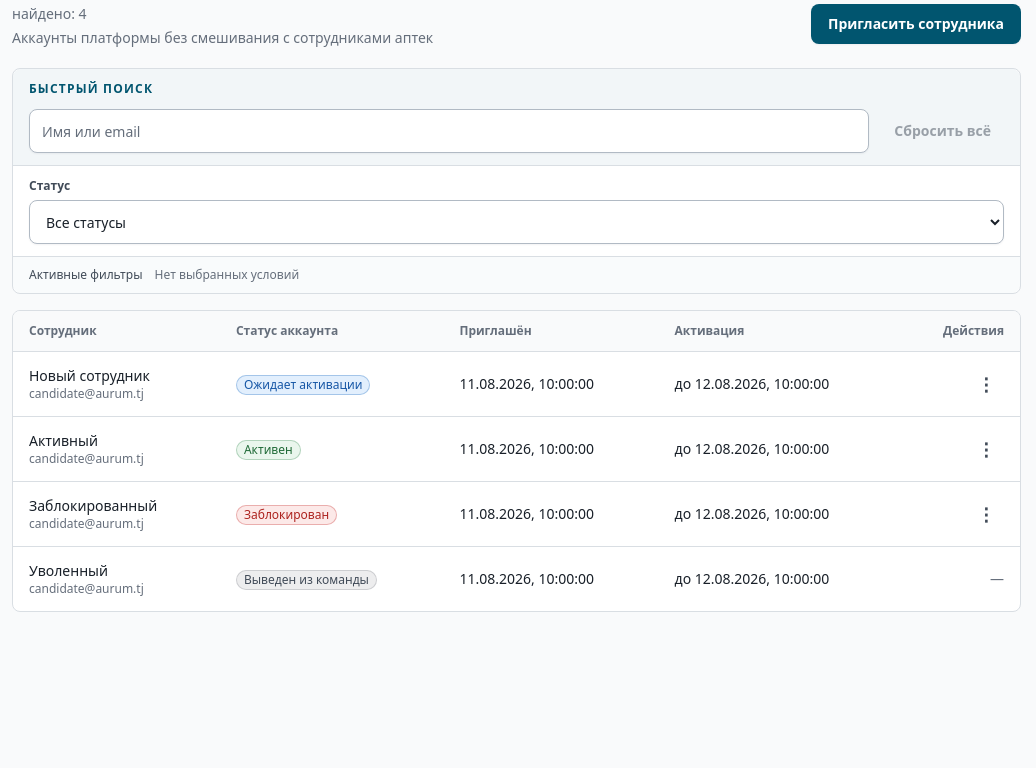
Test: PlatformAccountsPage › shows only lifecycle actions allowed by each account status
Expected: the text "Активный" is shown, [29, 431, 98, 450]
Click the button named "Действия с аккаунтом Новый сотрудник" at (986, 384), box [968, 366, 1004, 402]
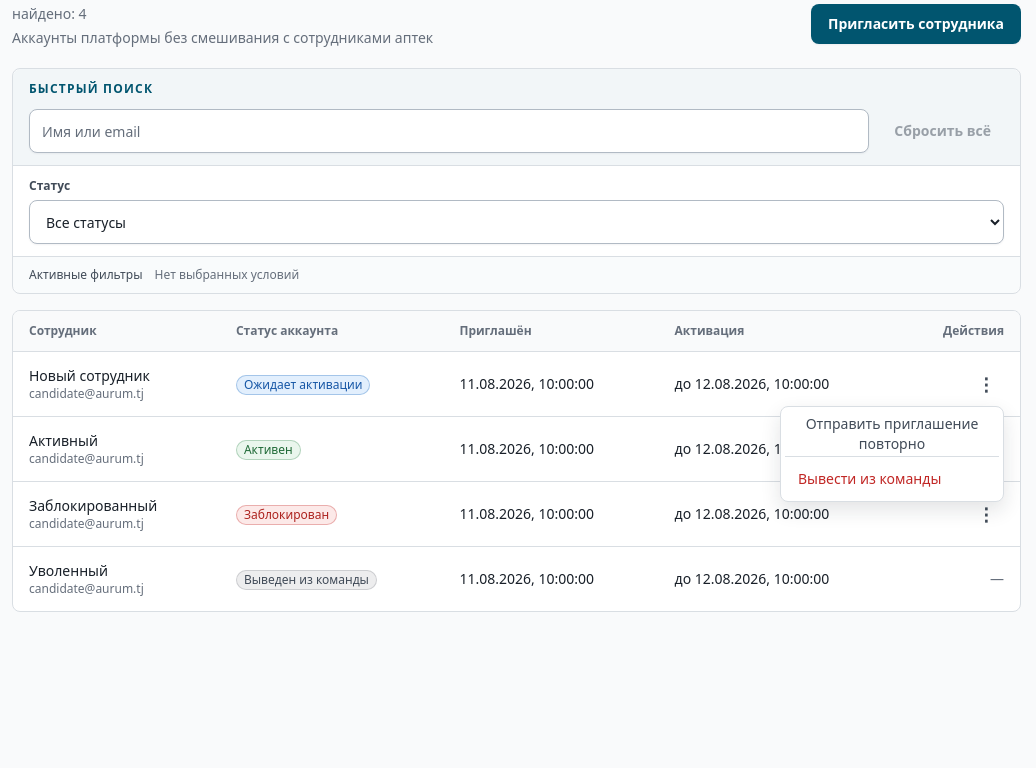
Expected: the menu item "Заблокировать" is not shown
Result: the menu item "Отправить приглашение повторно" is shown at [785, 416, 999, 452]
Result: the menu item "Вывести из команды" is shown at [785, 461, 999, 497]
Press Escape
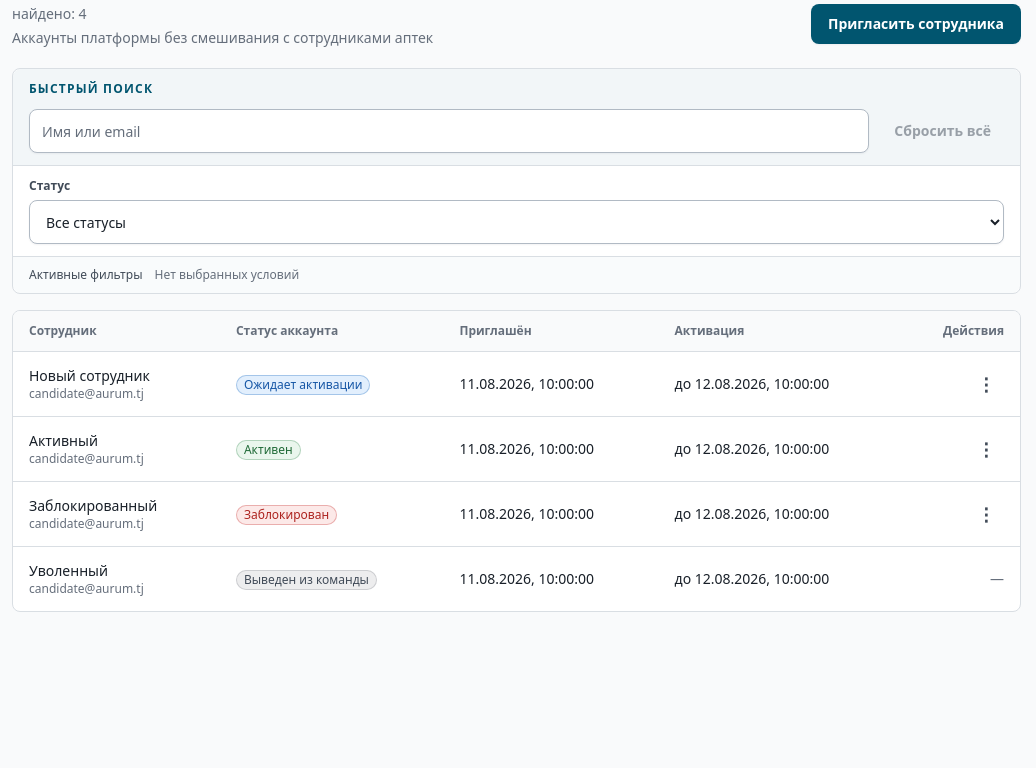
Click the button named "Действия с аккаунтом Активный" at (986, 449), box [968, 431, 1004, 467]
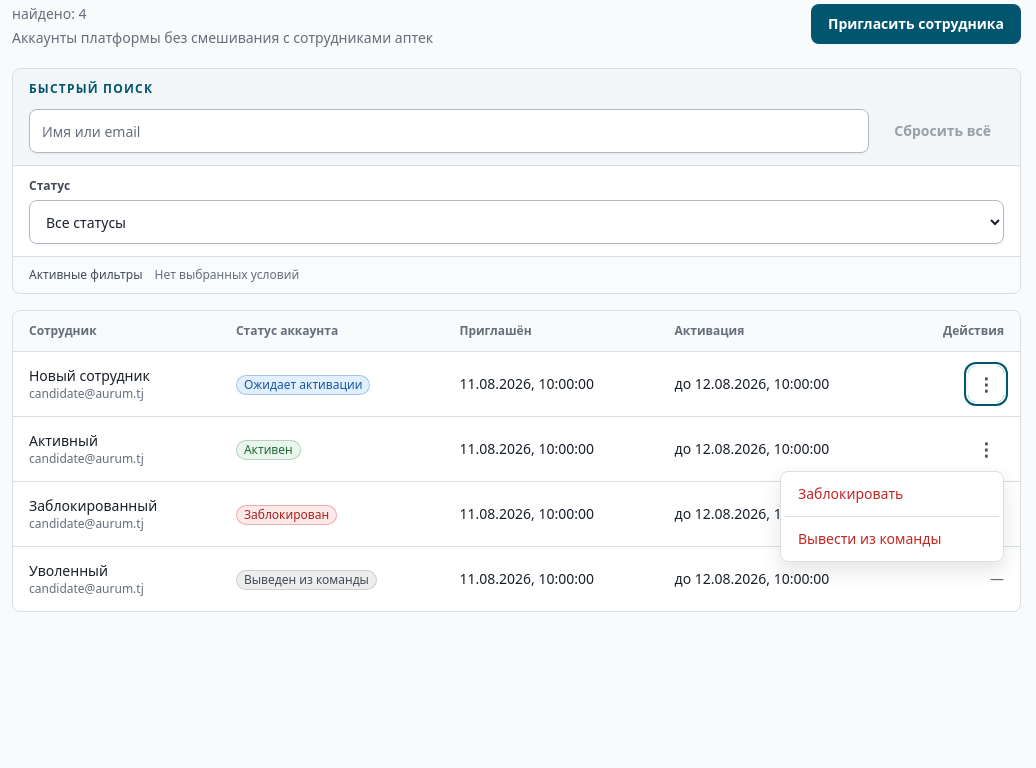
Expected: the menu item "Разблокировать" is not shown
Result: the menu item "Заблокировать" is shown at [785, 476, 999, 512]
Press Escape
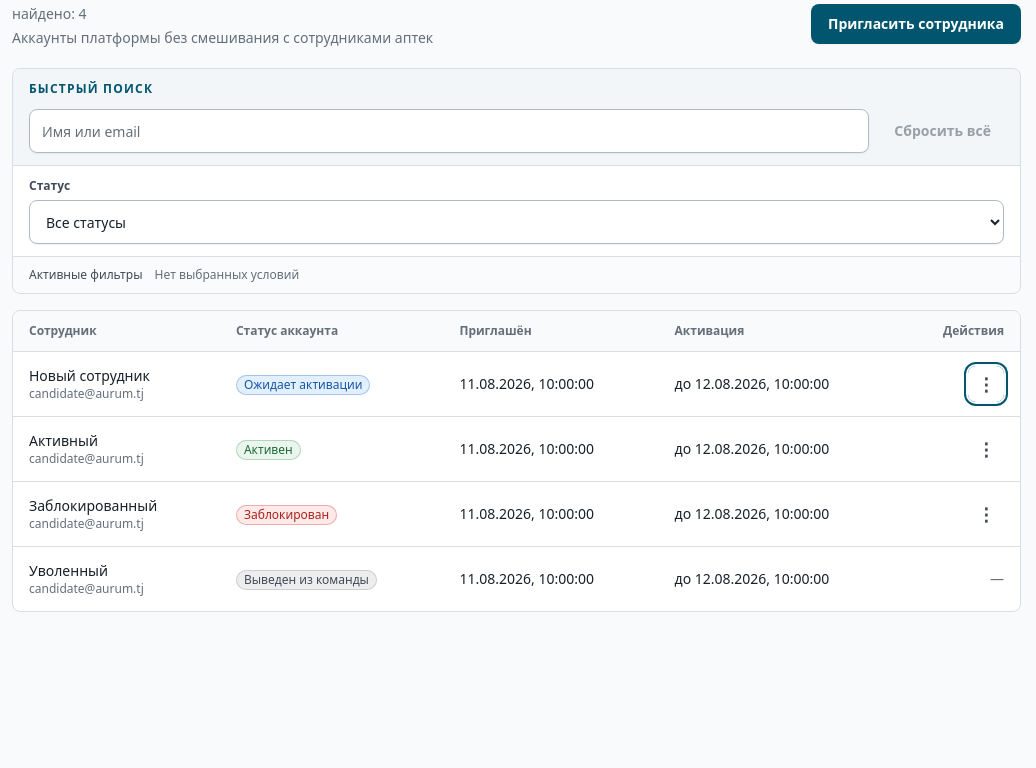
Click the button named "Действия с аккаунтом Заблокированный" at (986, 514), box [968, 496, 1004, 532]
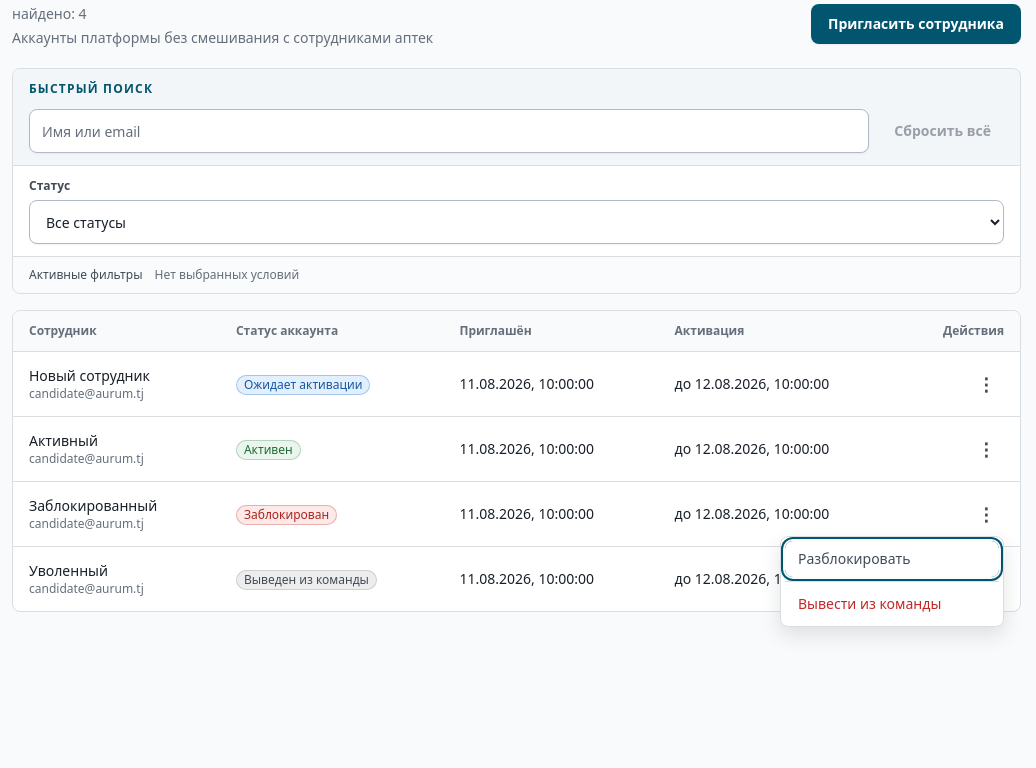
Expected: the menu item "Заблокировать" is not shown
Result: the menu item "Разблокировать" is shown at [785, 541, 999, 577]
